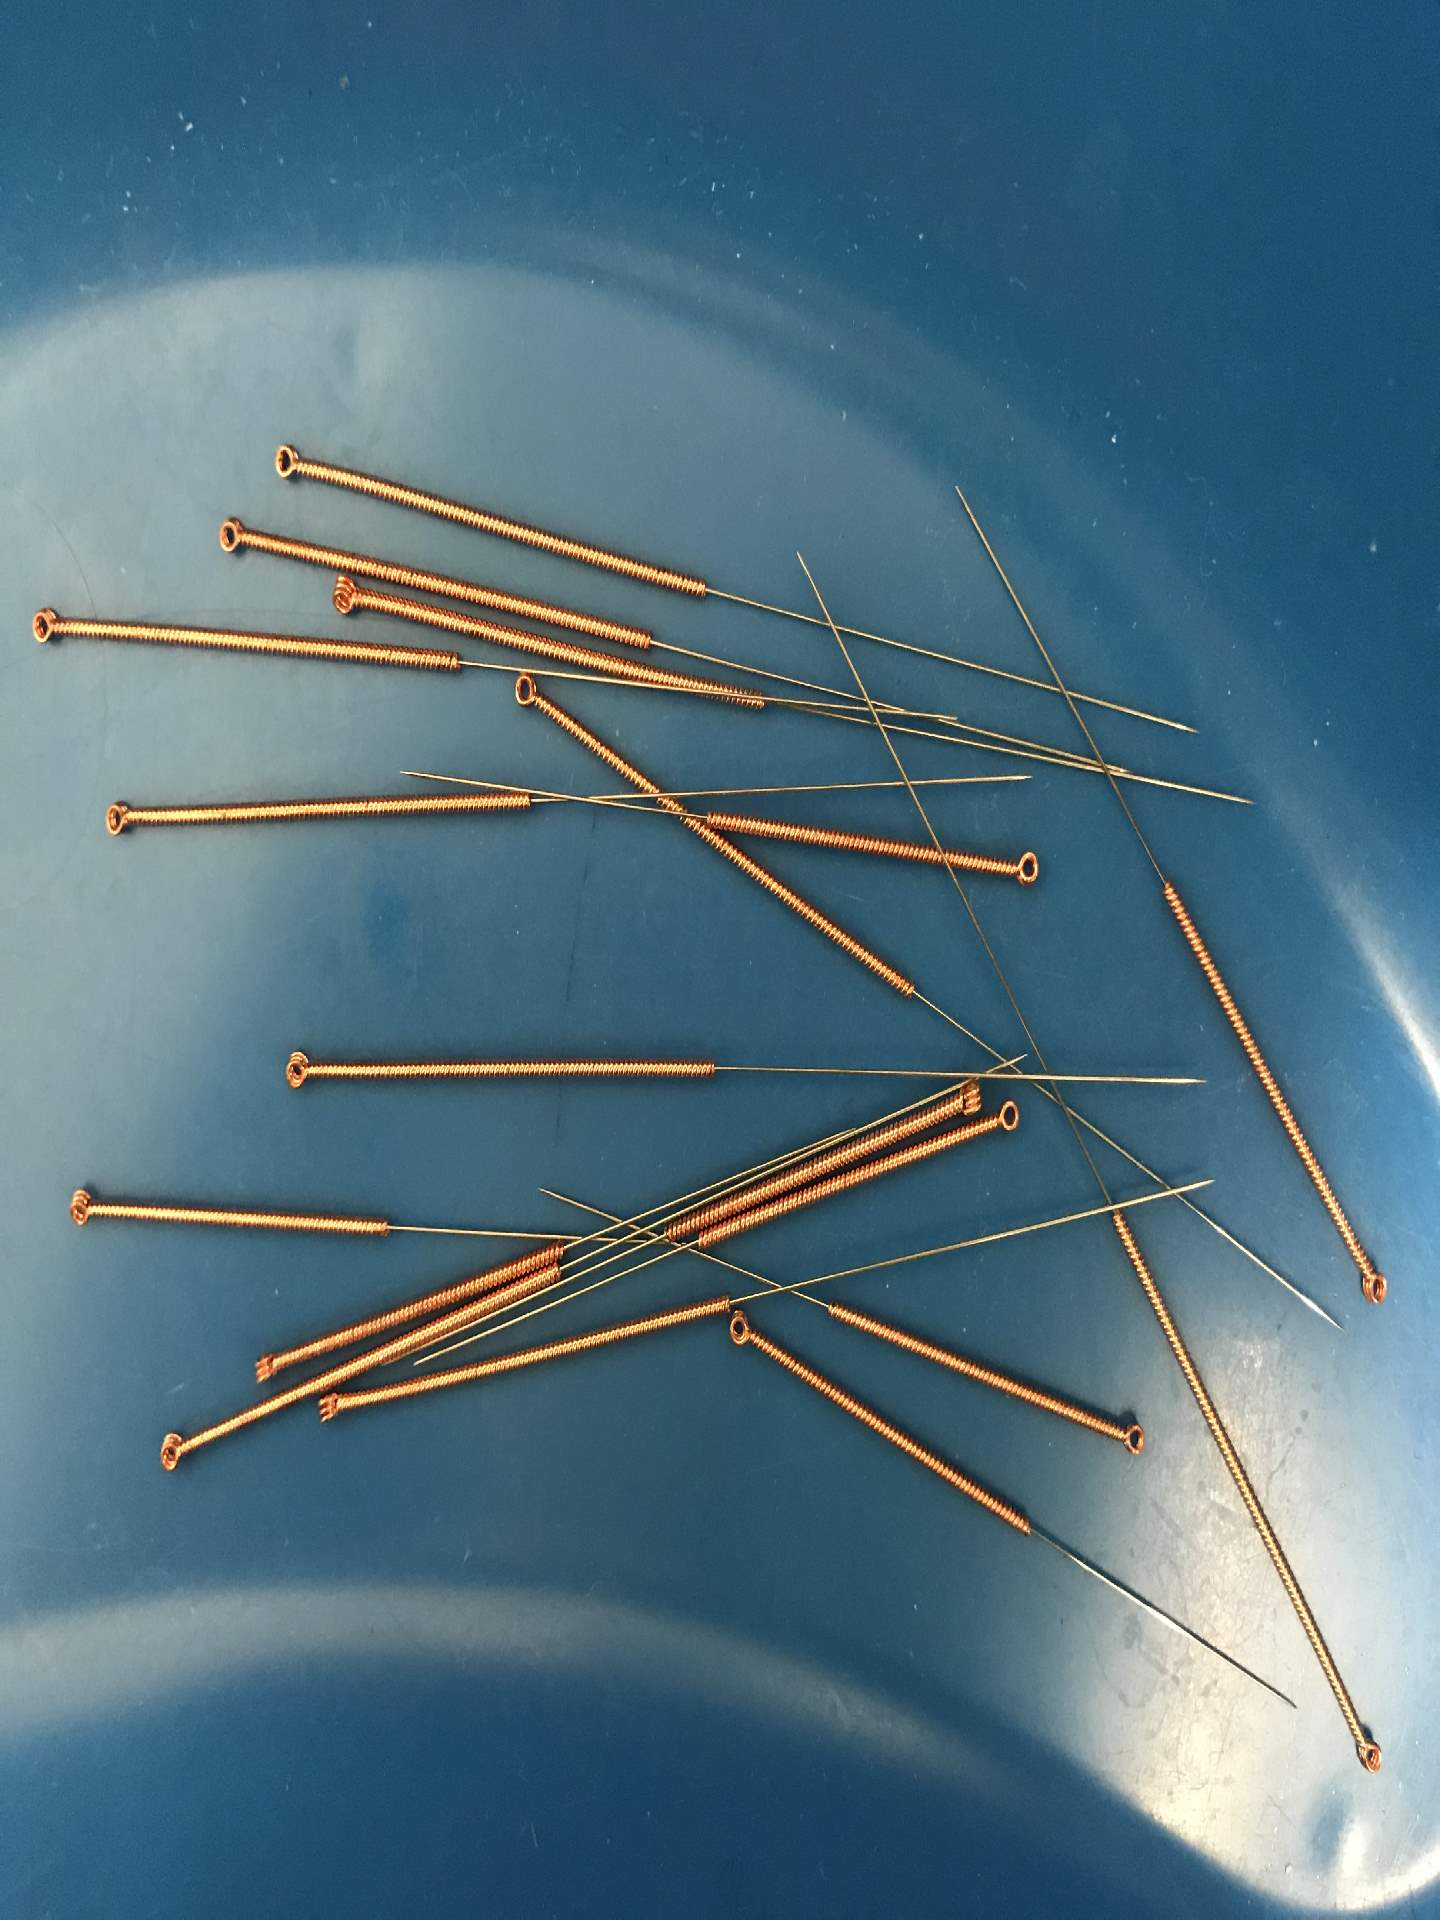needle: (17, 594, 73, 658), (269, 1039, 327, 1099), (53, 1176, 107, 1238), (1348, 1249, 1396, 1314), (150, 1421, 201, 1482), (91, 789, 144, 847), (207, 506, 259, 565), (318, 568, 371, 624), (263, 434, 313, 491), (1343, 1720, 1389, 1782), (998, 844, 1047, 897), (1109, 1409, 1153, 1466), (501, 668, 551, 718), (942, 1072, 989, 1123), (718, 1305, 764, 1356), (985, 1093, 1029, 1141), (309, 1385, 352, 1432), (244, 1342, 286, 1391)
